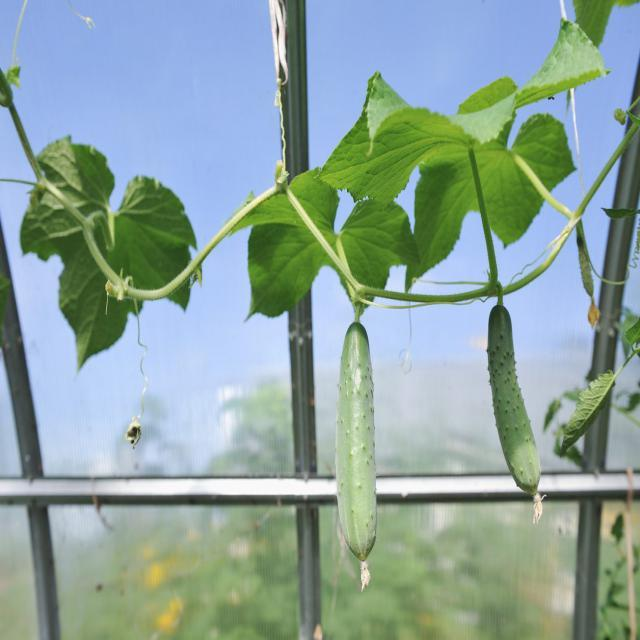cucumber: (484, 302, 542, 495), (333, 320, 378, 562)
